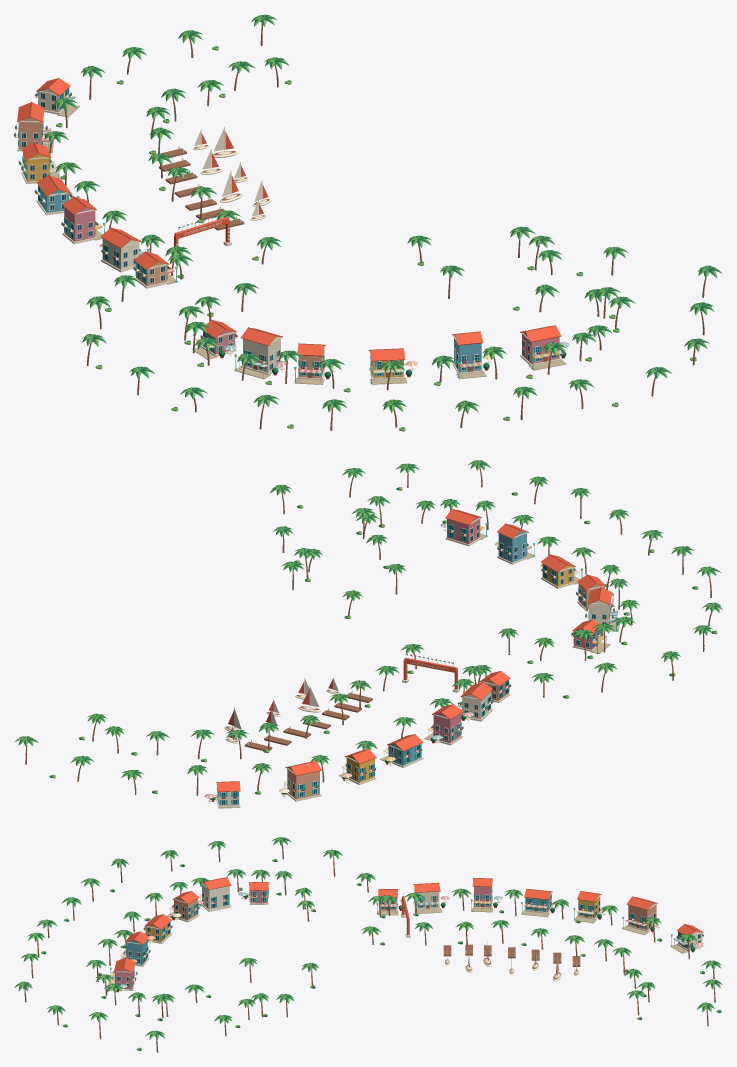
File: harbor-village.glb
3 renders of one model, top to bottom at view 1: azimuth 30°, elevation 25°; view 2: azimuth 150°, elevation 25°; view 3: azimuth 270°, elevation 25°, orthographic. The views are drawn at different scales.
Parts seen in each view (by area): view 1: leaf, lime, ivory, orange, bark, pink, glass, Warm limestone paving, peach, teal, blue, gold; view 2: lime, leaf, ivory, orange, bark, glass, pink, teal, peach, blue, gold; view 3: leaf, lime, ivory, orange, bark, glass, teal, peach, Warm limestone paving, pink, blue, gold.
Boxes of the visible parts, bbox=[...] form: leaf: bbox=[14, 15, 722, 428]; lime: bbox=[44, 14, 721, 431]; ivory: bbox=[14, 89, 569, 382]; orange: bbox=[17, 78, 564, 379]; bark: bbox=[42, 21, 706, 430]; pink: bbox=[41, 129, 559, 373]; glass: bbox=[18, 89, 555, 375]; Warm limestone paving: bbox=[43, 105, 566, 384]; peach: bbox=[18, 117, 480, 378]; teal: bbox=[15, 88, 557, 383]; blue: bbox=[38, 97, 569, 372]; gold: bbox=[23, 153, 559, 377]; lime: bbox=[15, 460, 722, 794]; leaf: bbox=[15, 460, 722, 800]; ivory: bbox=[204, 517, 618, 808]; orange: bbox=[211, 509, 612, 801]; bark: bbox=[25, 467, 714, 795]; glass: bbox=[217, 524, 611, 804]; pink: bbox=[204, 517, 600, 798]; teal: bbox=[219, 523, 617, 804]; peach: bbox=[287, 546, 604, 799]; blue: bbox=[388, 523, 617, 765]; gold: bbox=[346, 524, 616, 782]; leaf: bbox=[14, 837, 721, 1050]; lime: bbox=[15, 837, 722, 1050]; ivory: bbox=[109, 882, 703, 990]; orange: bbox=[114, 877, 703, 992]; bark: bbox=[23, 844, 715, 1052]; glass: bbox=[117, 889, 700, 987]; teal: bbox=[110, 883, 703, 986]; peach: bbox=[121, 898, 656, 955]; Warm limestone paving: bbox=[107, 893, 689, 990]; pink: bbox=[115, 886, 703, 989]; blue: bbox=[120, 892, 686, 988]; gold: bbox=[110, 884, 672, 981].
Size of the model in its own units: 166 by 11.83 by 247.
19 materials, 1 textured.
